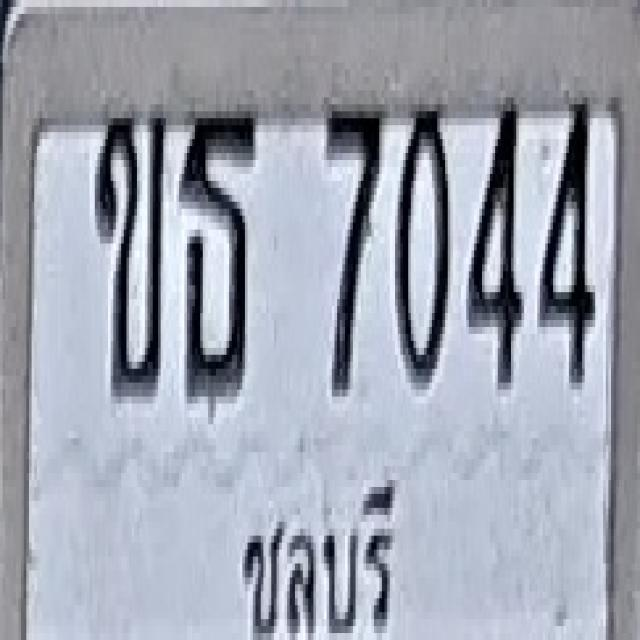-: (180, 101, 257, 400), (95, 101, 166, 393)
0: (394, 98, 449, 382)
4: (466, 90, 522, 382), (539, 90, 594, 382)
7: (325, 98, 383, 390)
CBI: (227, 465, 403, 640)
